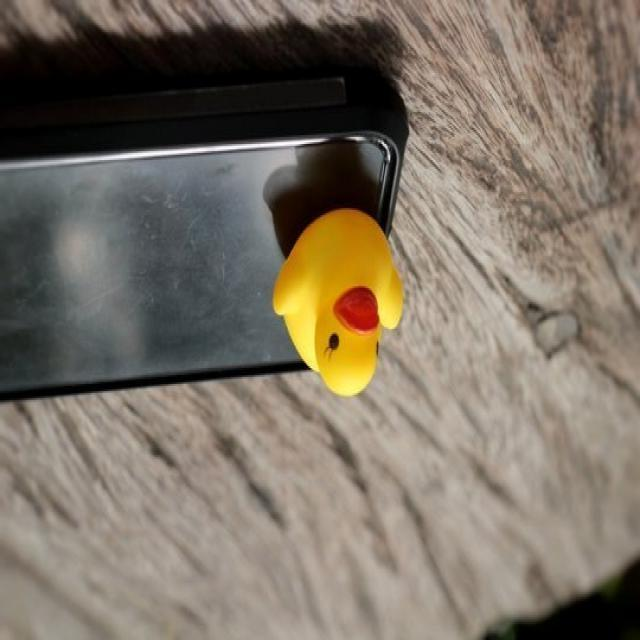rubber-duck: (272, 208, 401, 394)
